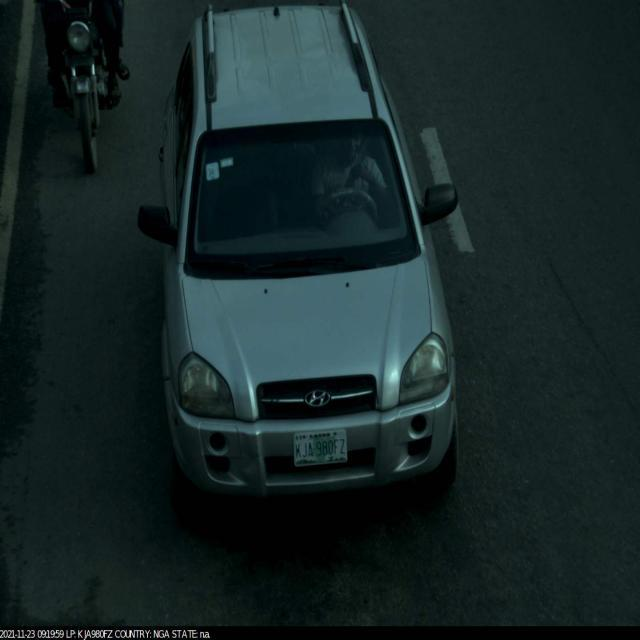windshield: (176, 114, 424, 280)
